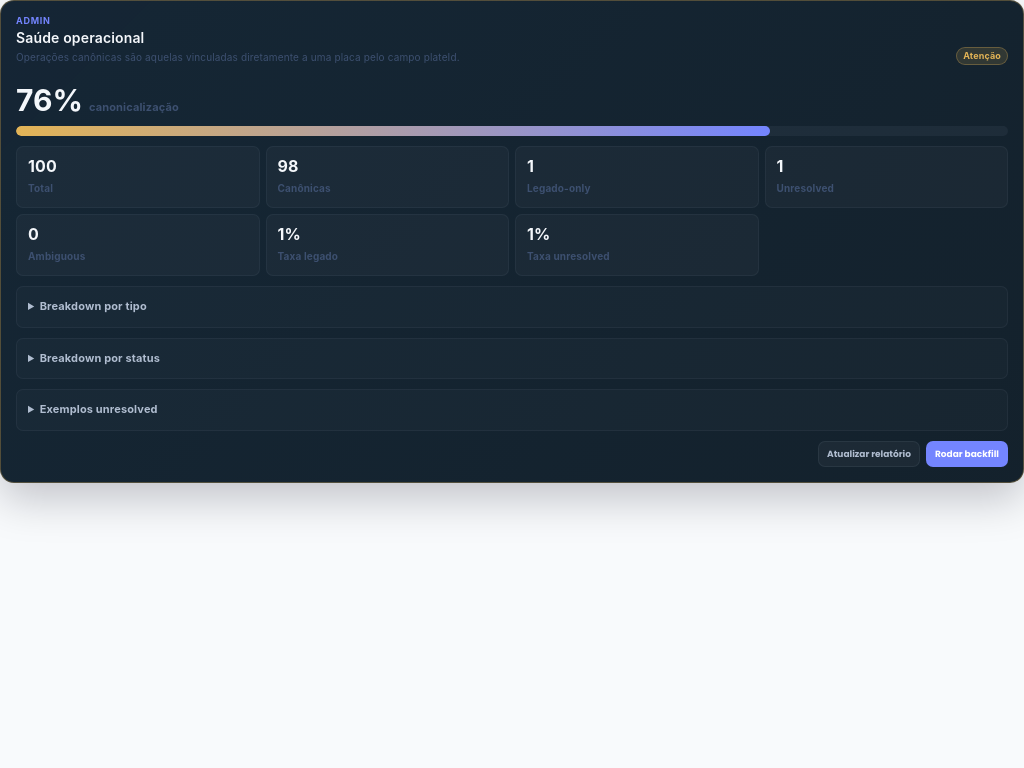
Test: OperationCanonicalizationCard › executa backfill, exibe resultado e recarrega relatorio
Check: the text "76%" is shown, box [16,85,83,115]
Click the button "Rodar backfill" at (967, 454), box [926,441,1008,467]
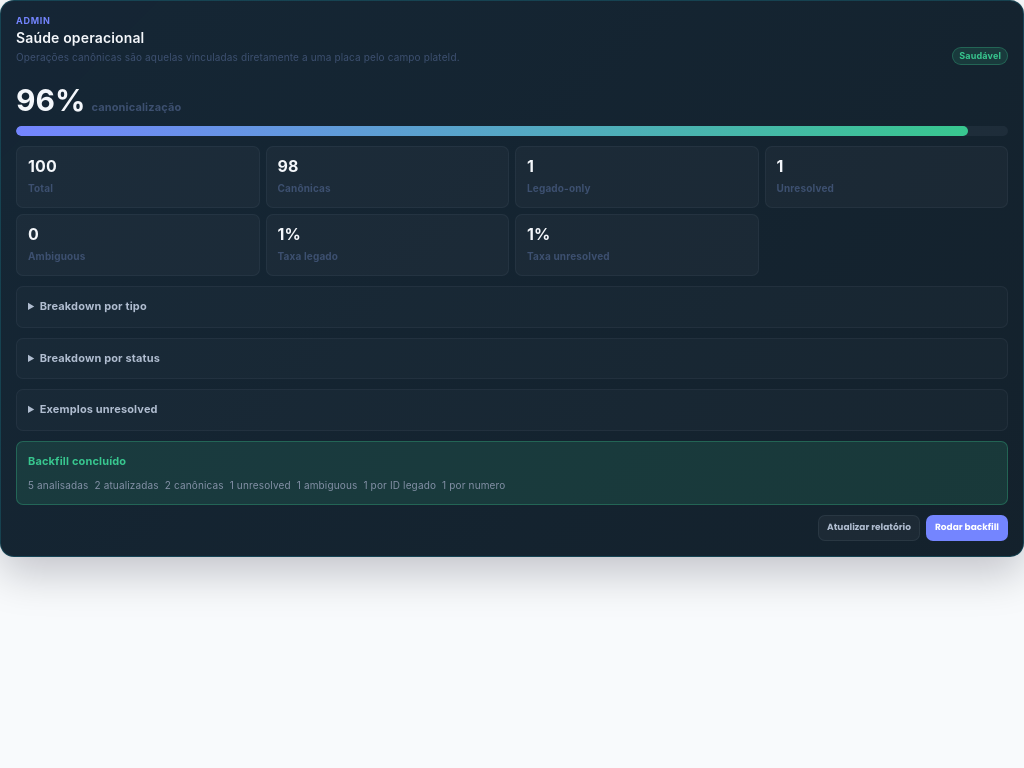
Check: the text "Backfill concluído" is shown, box [28,454,126,468]
Check: the text "2 atualizadas" is shown, box [94,477,159,493]
Check: the text "1 ambiguous" is shown, box [297,477,357,493]
